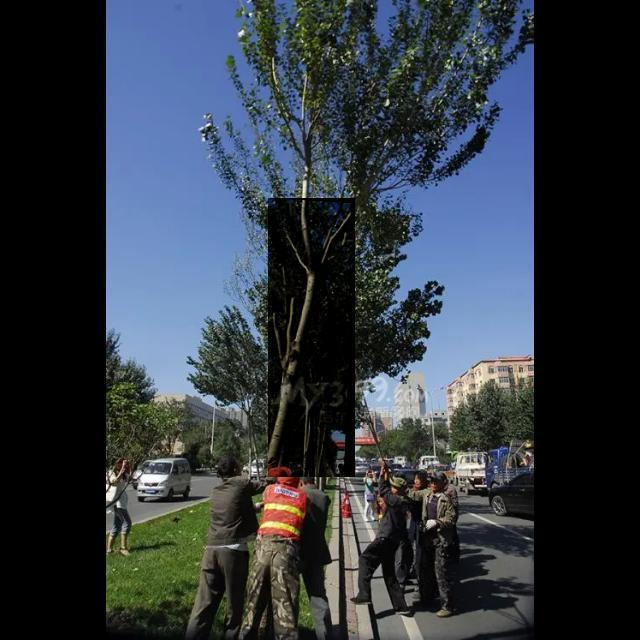fallen_tree: (268, 198, 356, 478)
